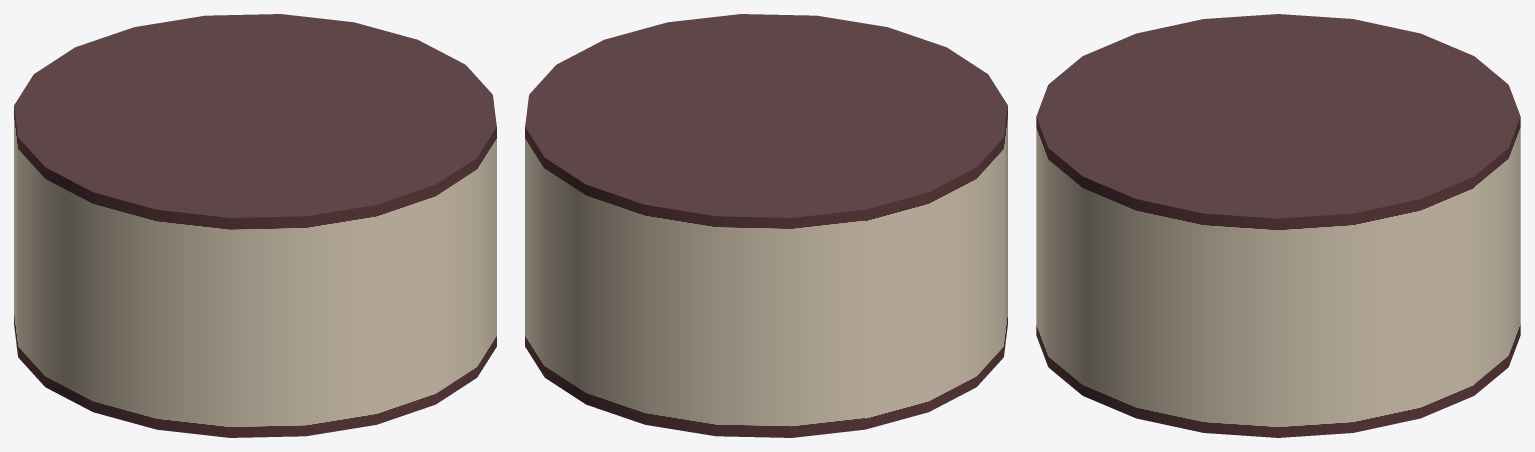
File: PR_CylinderSmall.fbx
3 views of the same model, side by side, from view 1: azimuth 30°, elevation 25°; view 2: azimuth 150°, elevation 25°; view 3: azimuth 270°, elevation 25° (orthographic).
Parts seen in each view (by area): view 1: pCylinder1; view 2: pCylinder1; view 3: pCylinder1.
Boxes of the visible parts, bbox=[...] form: pCylinder1: bbox=[14, 14, 496, 437]; pCylinder1: bbox=[525, 14, 1007, 437]; pCylinder1: bbox=[1036, 14, 1520, 437].
Bounding box in the file's own units: 2 × 1 × 2.
